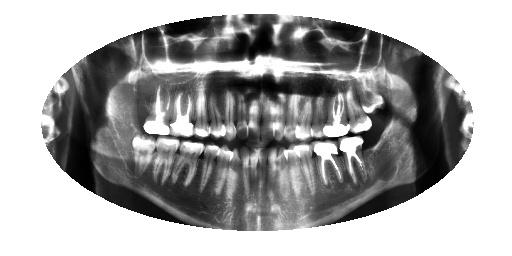i10decay: (240, 146, 249, 196)
i11decay: (227, 148, 241, 199)
i12decay: (214, 143, 235, 197)
i13healthy: (199, 145, 221, 194)
i14healthy: (170, 140, 206, 188)
i15healthy: (150, 137, 184, 188)
i16healthy: (129, 135, 159, 181)
i1loss: (364, 136, 391, 171)
i2healthy: (337, 134, 373, 186)
i3healthy: (310, 138, 346, 188)
i4healhty: (296, 140, 317, 198)
i5healthy: (285, 144, 303, 202)
i6decay: (278, 144, 289, 198)
i7decay: (268, 147, 277, 195)
i8decay: (259, 148, 269, 196)
i9decay: (248, 148, 259, 196)
u10decay: (237, 90, 249, 142)
u11healthy: (224, 90, 237, 142)
u12healthy: (209, 90, 226, 139)
u13healthy: (195, 81, 209, 140)
u14healthy: (169, 89, 195, 138)
u15healthy: (144, 87, 173, 138)
u16loss: (121, 85, 152, 122)
u1decay: (357, 80, 385, 115)
u2decay: (345, 84, 373, 133)
u3healthy: (323, 90, 350, 138)
u4decay: (311, 94, 329, 138)
u5decay: (295, 93, 312, 141)
u6deay: (284, 90, 297, 142)
u7decay: (272, 91, 285, 142)
u8decay: (261, 91, 274, 143)
u9decay: (246, 91, 261, 143)
